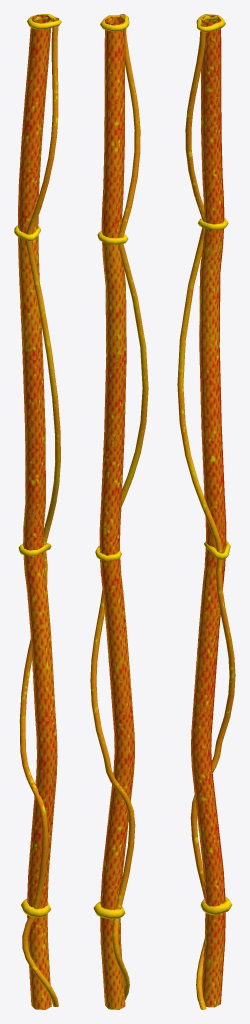
File: SM_Cable_02.glb
3 views of the same model, side by side, from view 1: azimuth 90°, elevation 25°; view 2: azimuth 150°, elevation 25°; view 3: azimuth 330°, elevation 25° (orthographic).
Parts seen in each view (by area): view 1: SM_Cable_02; view 2: SM_Cable_02; view 3: SM_Cable_02.
Part boxes in pixels (left/top/right/bottom): SM_Cable_02: left=14, top=14, right=61, bottom=1009; SM_Cable_02: left=90, top=14, right=148, bottom=1009; SM_Cable_02: left=177, top=14, right=235, bottom=1009.
Size of the model in its own units: 0.1422 by 3 by 0.1309.
1 material, 1 textured.
